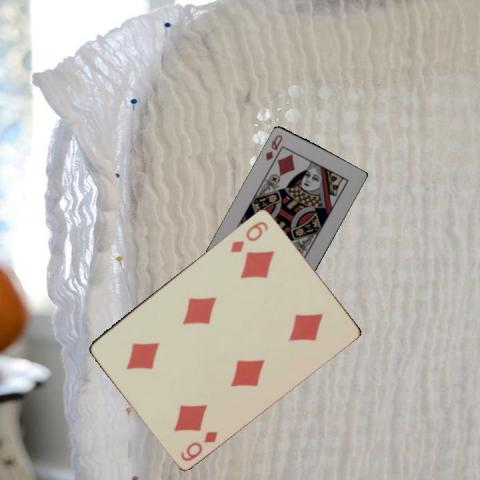6d: (228, 217, 270, 254), (177, 427, 220, 463)
Qd: (263, 132, 284, 162)
